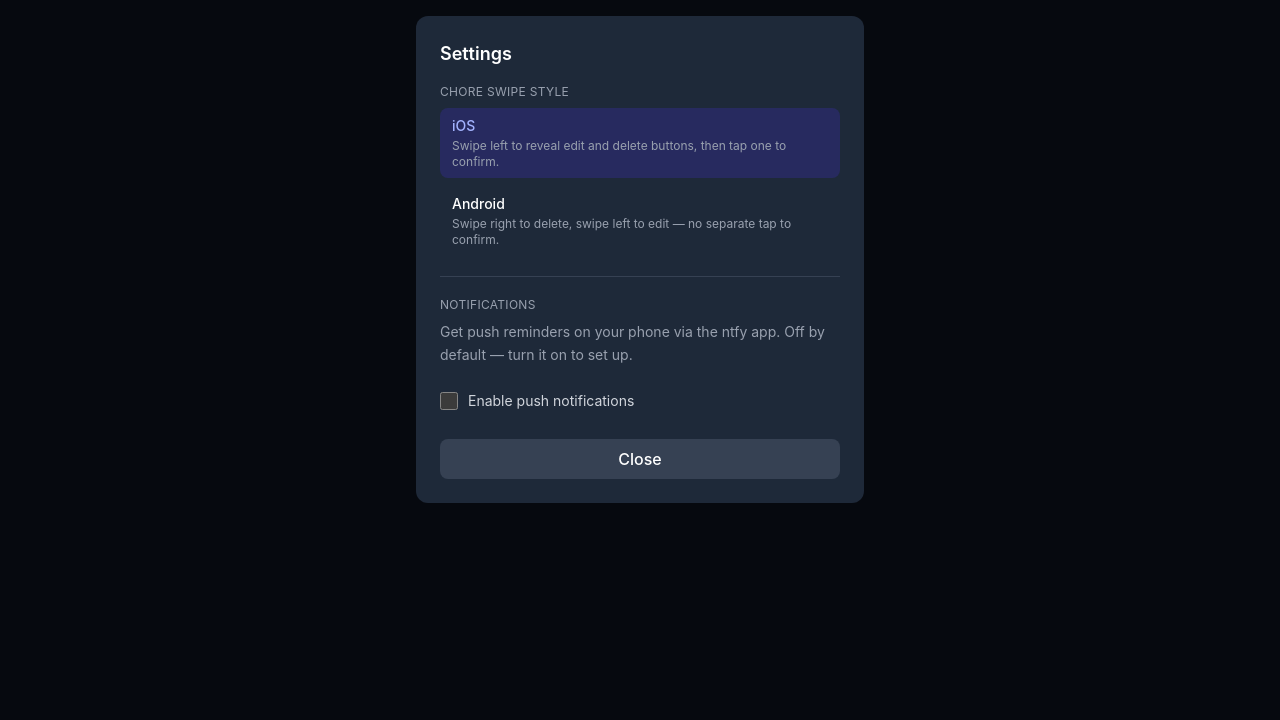
Test: SettingsModal — notifications › enable failure surfaces the red error and reverts the toggle to unchecked + interactive (DD-21)
Click the checkbox.
click(449, 400)  # box [440,392,458,410]
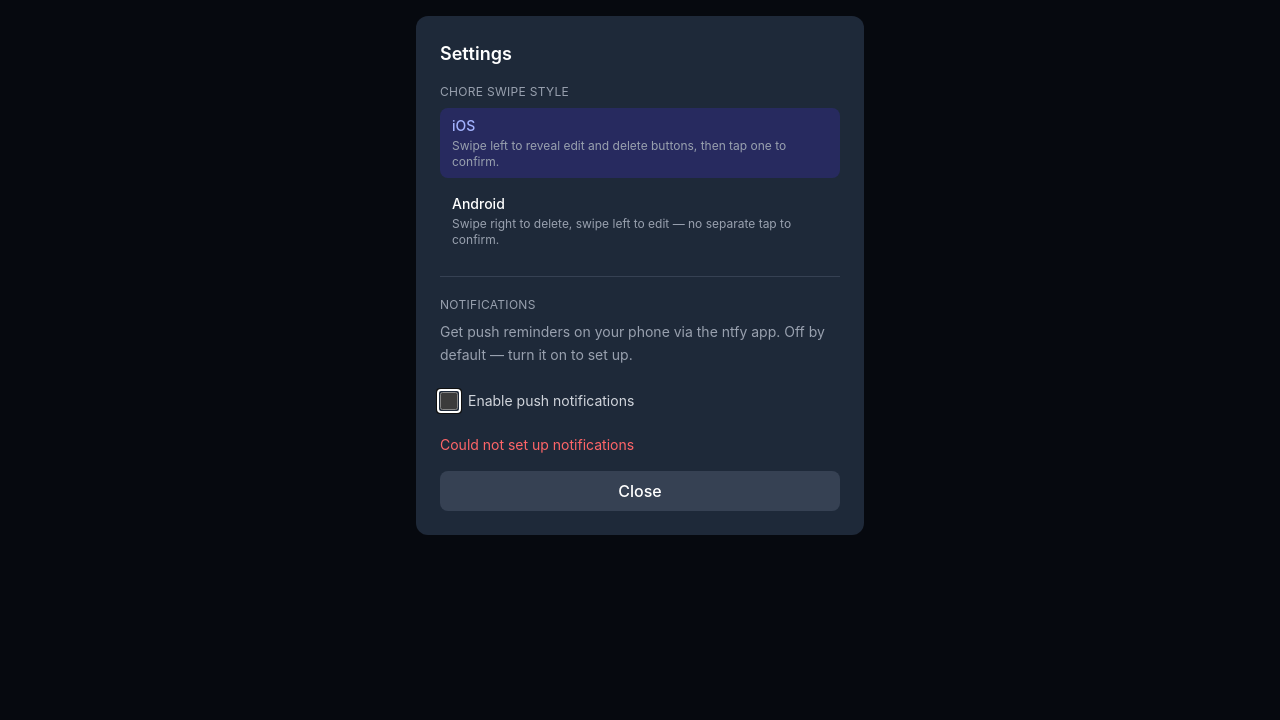
Expected: the message reads "Could not set up notifications", [440,436,634,452]
